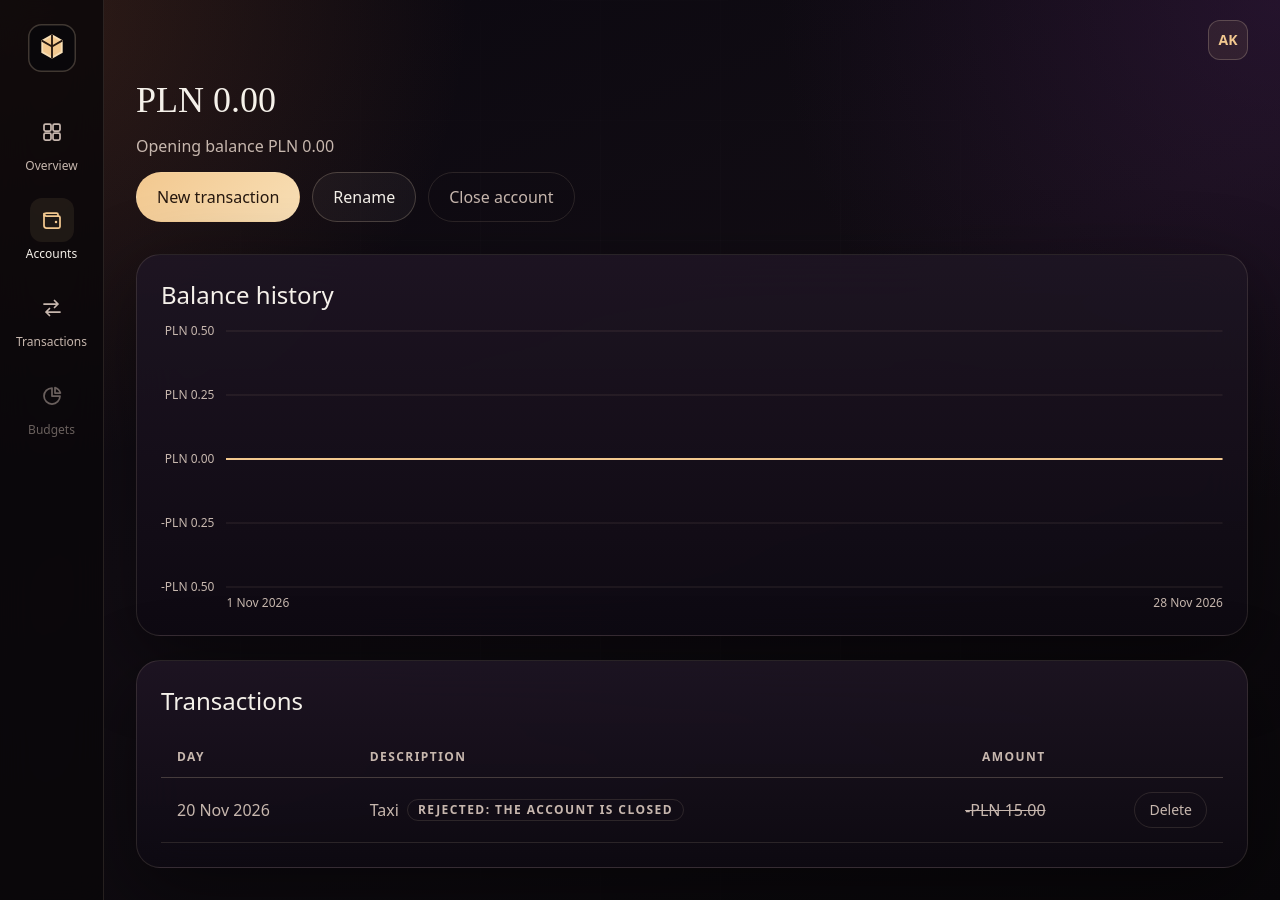
it: transactions of an account › shows a transaction Accounts rejected and lets the user delete it
(page scrolled)
Expected: the text "Rejected: the account is closed" is shown, [407,799,684,821]
Click the button with aria-label "Delete Taxi" at (1171,810), box [1134,792,1207,828]
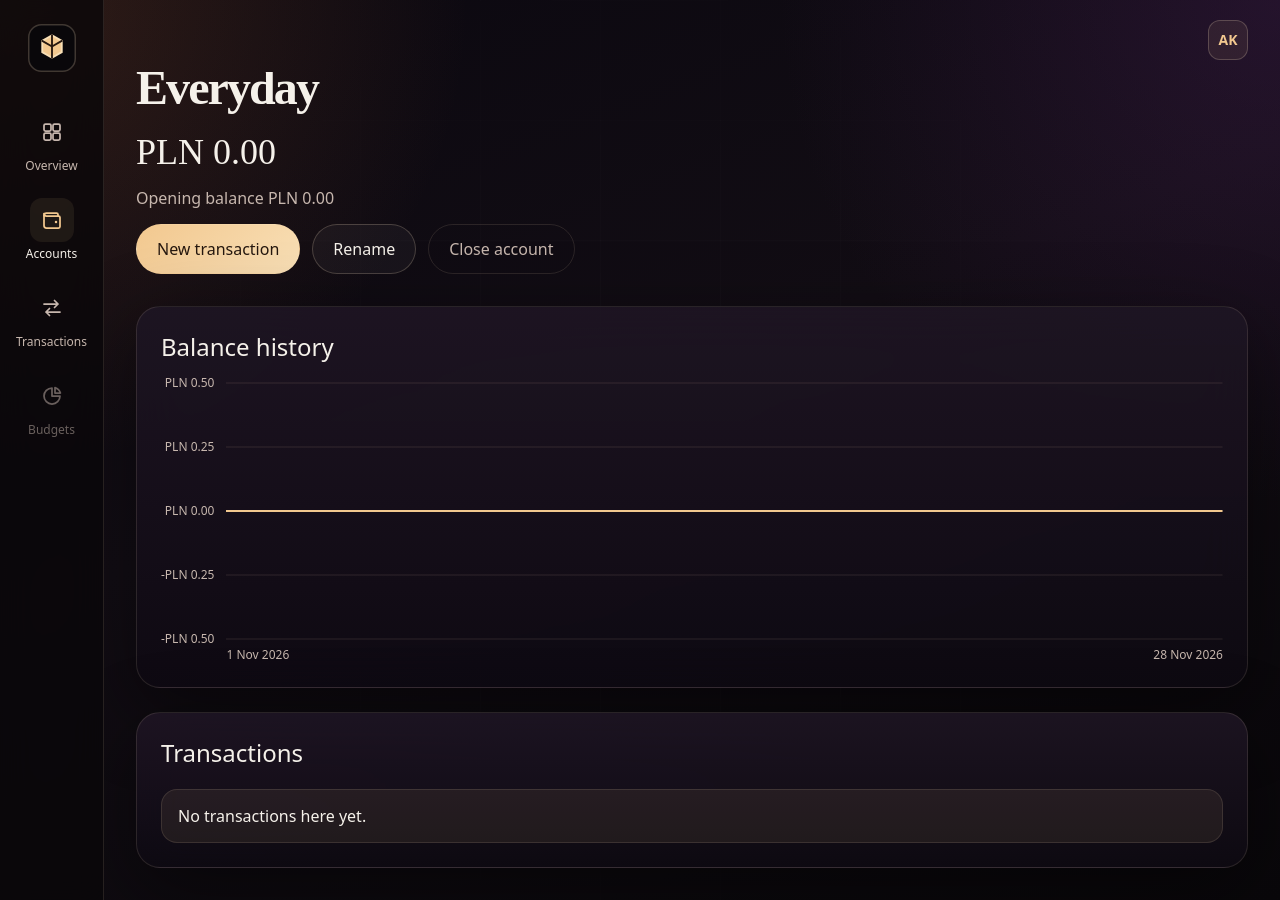
Result: the text "No transactions here yet." is shown at [161,789,1223,843]
